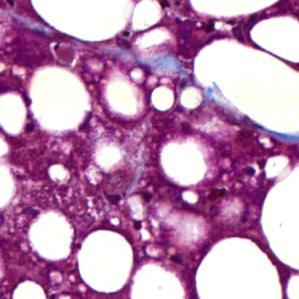steatosis: (82, 230, 135, 294), (155, 141, 212, 190)
